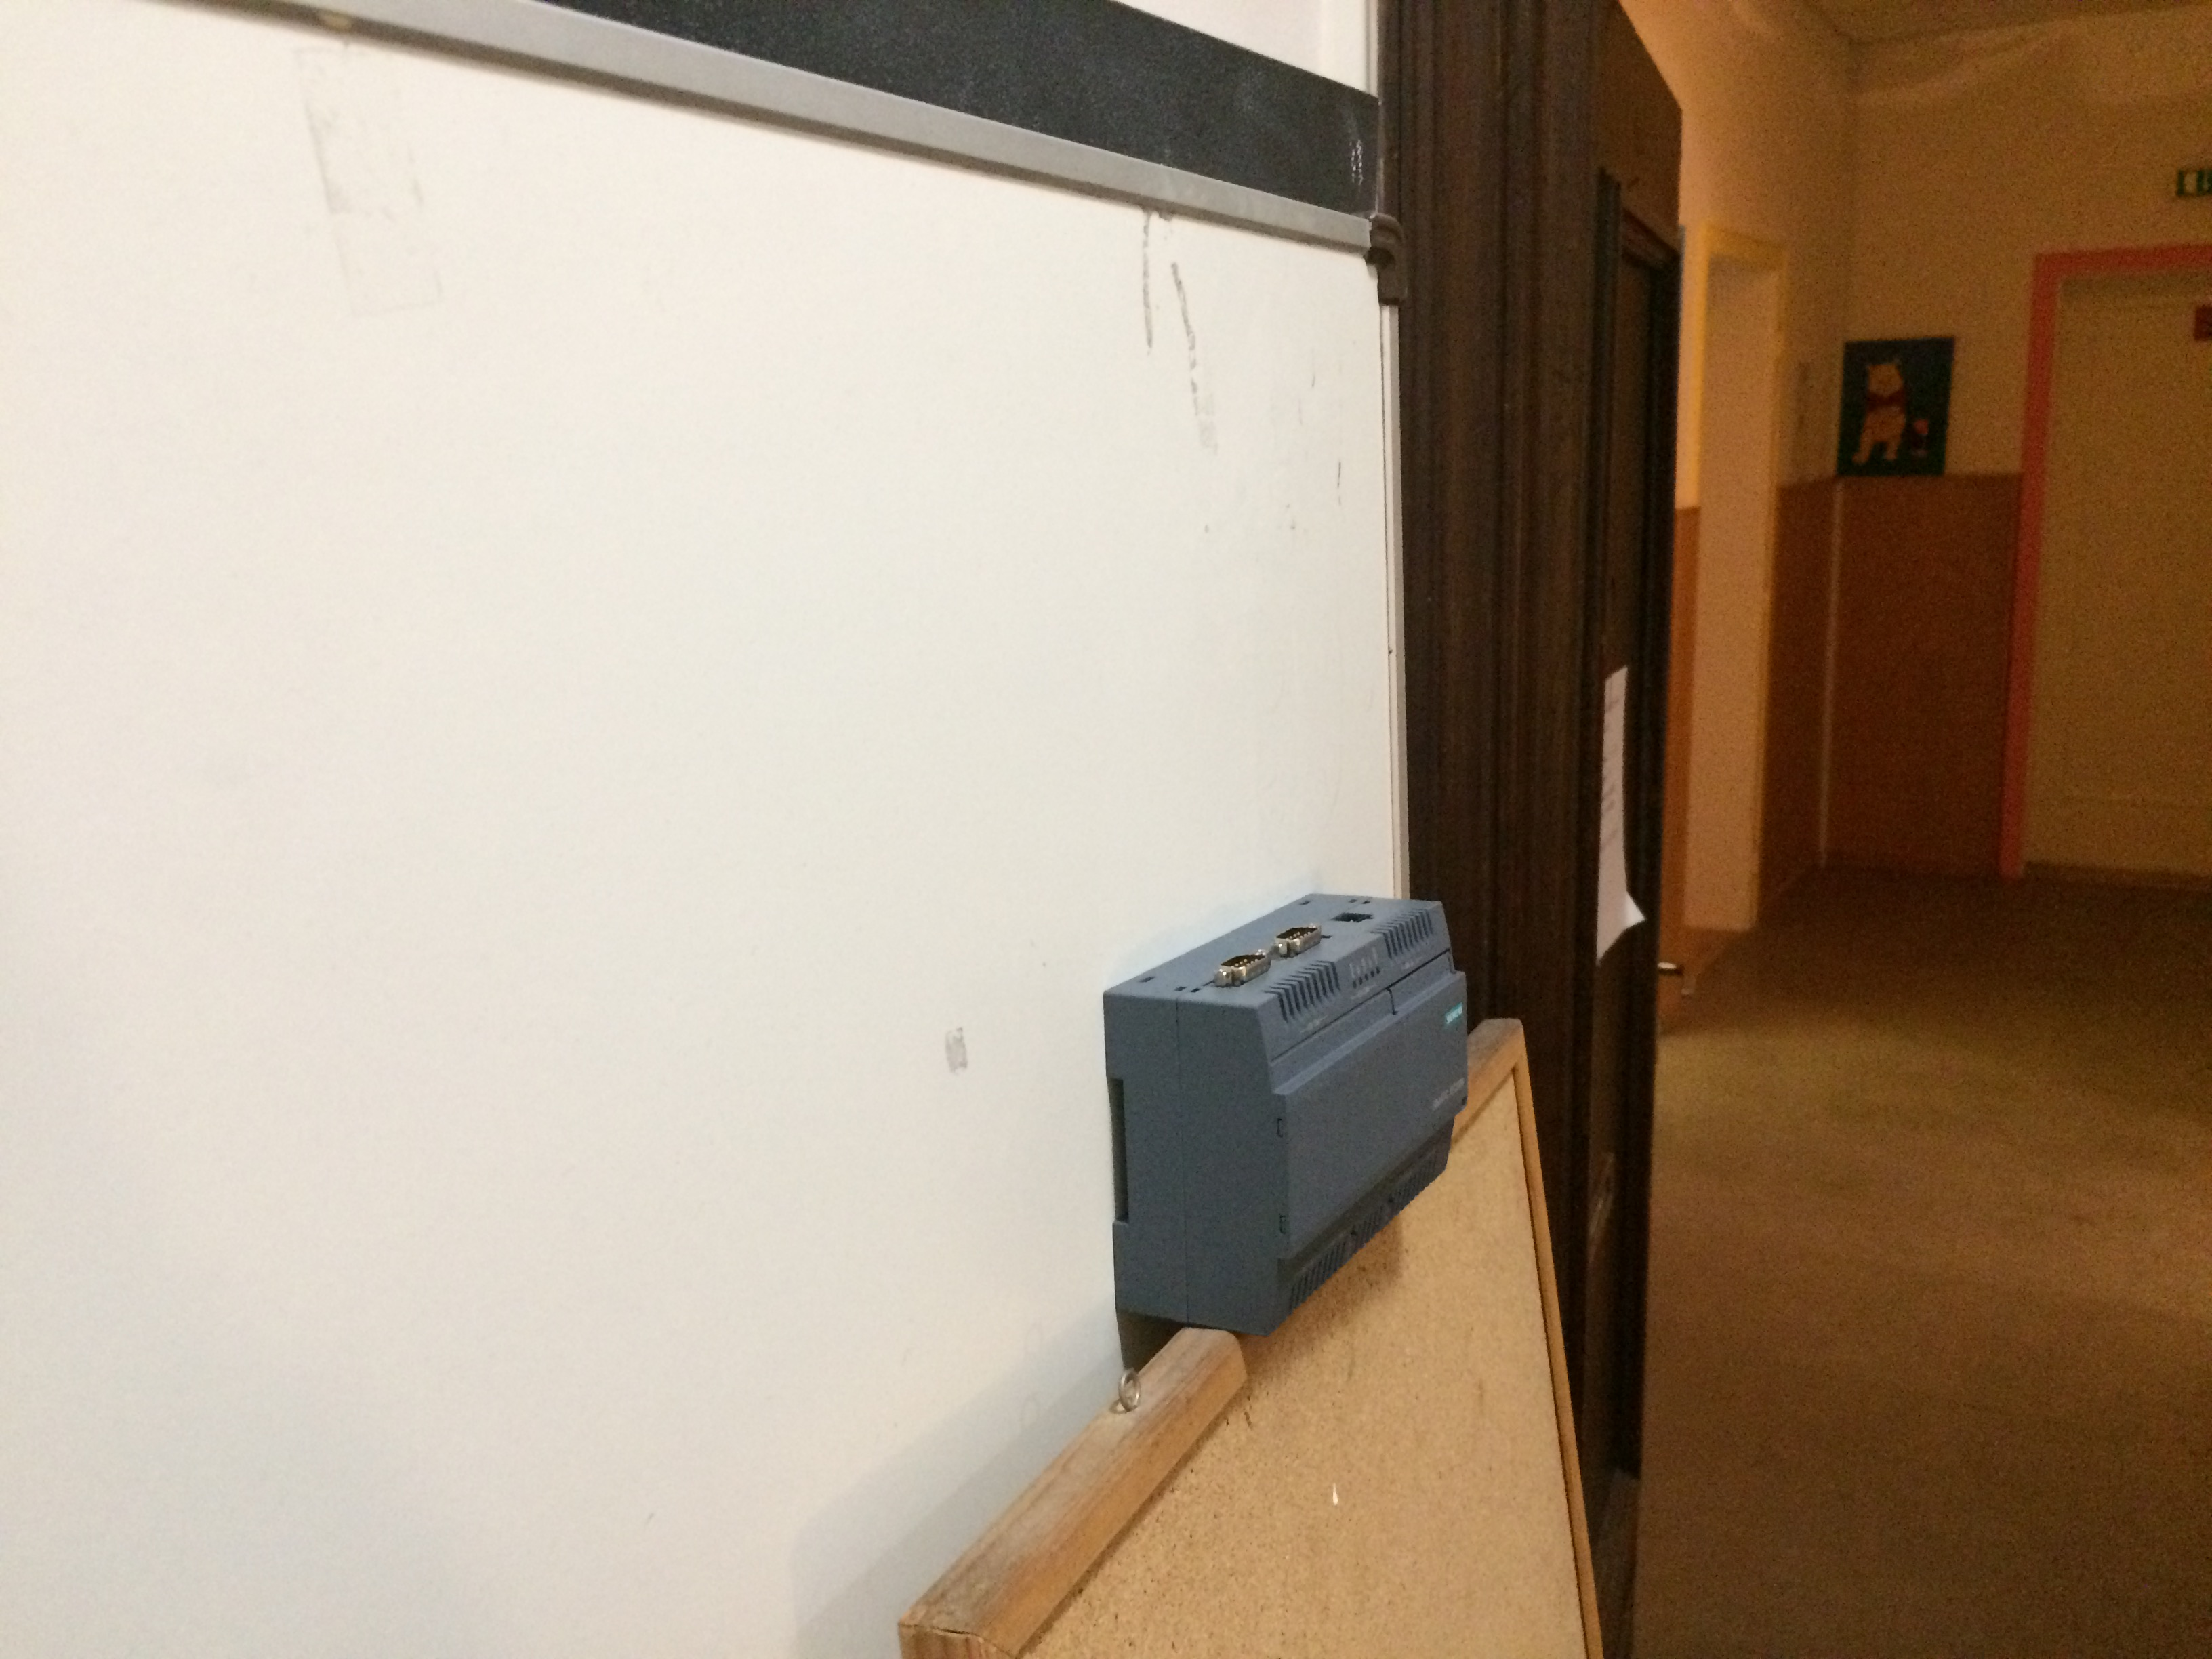iot2000: (1099, 887, 1470, 1342)
